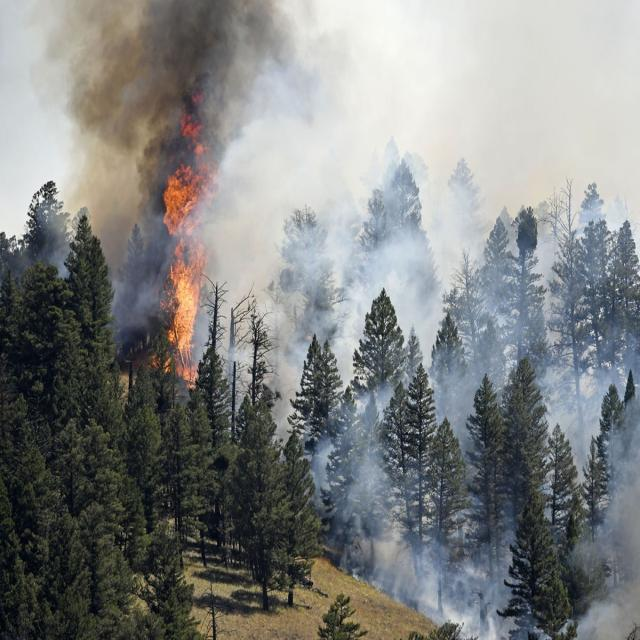fire: (162, 169, 205, 388)
smoke: (238, 134, 462, 337), (380, 519, 496, 608)
